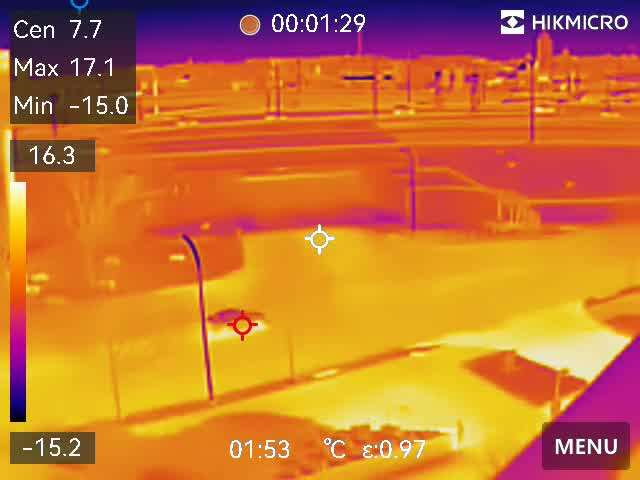smallCar: (202, 306, 268, 331)
vehicle: (595, 105, 622, 122), (389, 102, 418, 116), (170, 116, 201, 129), (533, 101, 558, 116)
